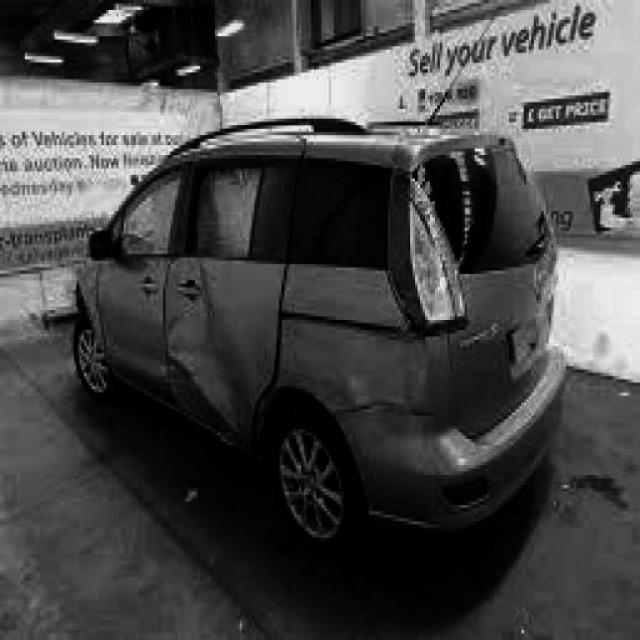car damage: (158, 265, 428, 437)
